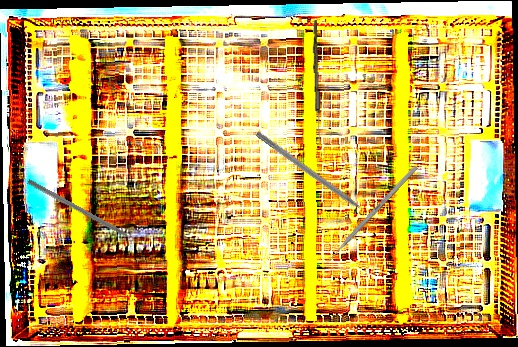Hook Surgical: (254, 130, 375, 222), (26, 179, 143, 247)
Pusher: (320, 165, 418, 270)
Surgical Spoon: (310, 19, 324, 145)
